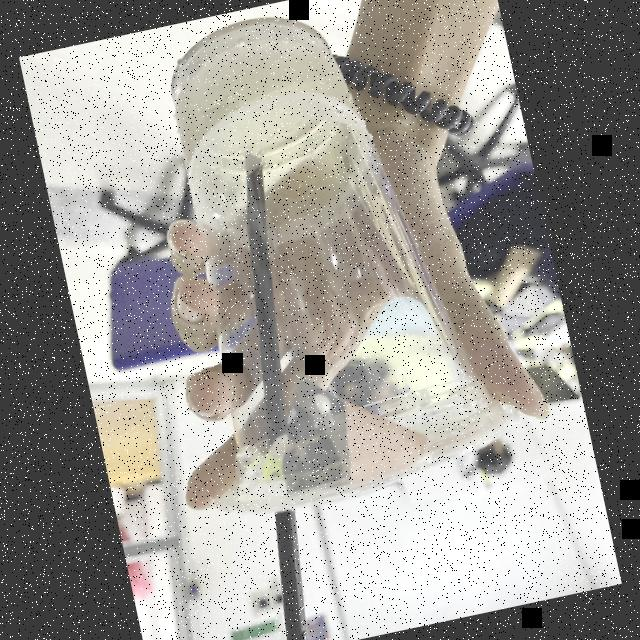plastic_cup: (106, 0, 518, 532)
straw: (237, 152, 306, 640)
